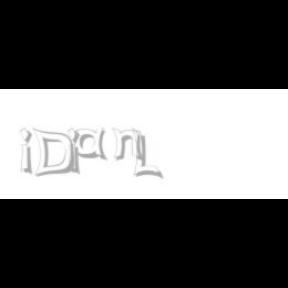D: (32, 128, 74, 178)
L: (132, 128, 160, 180)
a: (74, 128, 112, 160)
i: (20, 128, 36, 176), (67, 128, 83, 176)
n: (111, 128, 145, 162)
